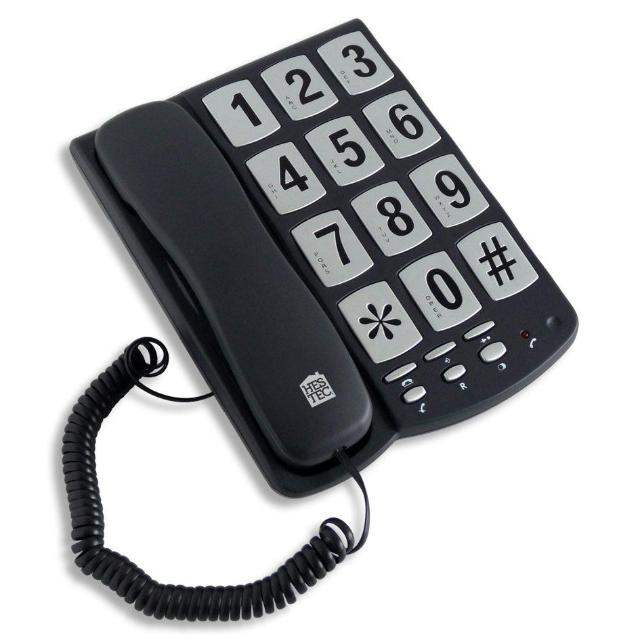Telephone-Set: (28, 0, 580, 584)
